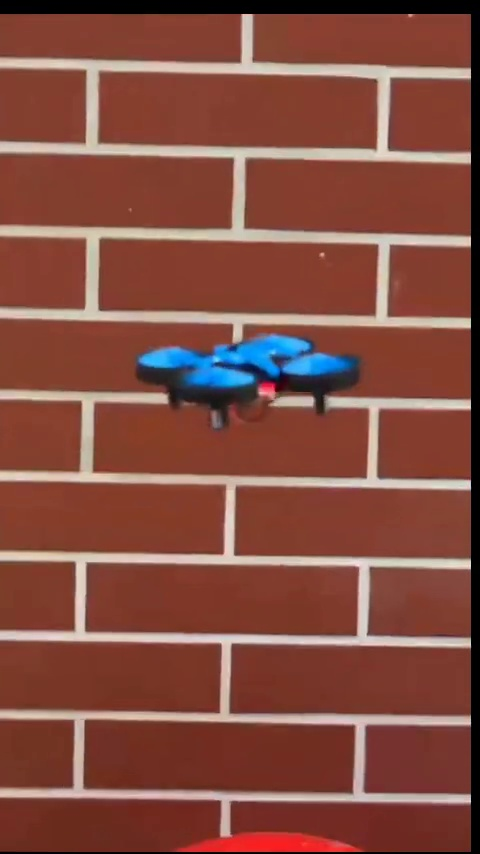drone: (141, 332, 362, 422)
